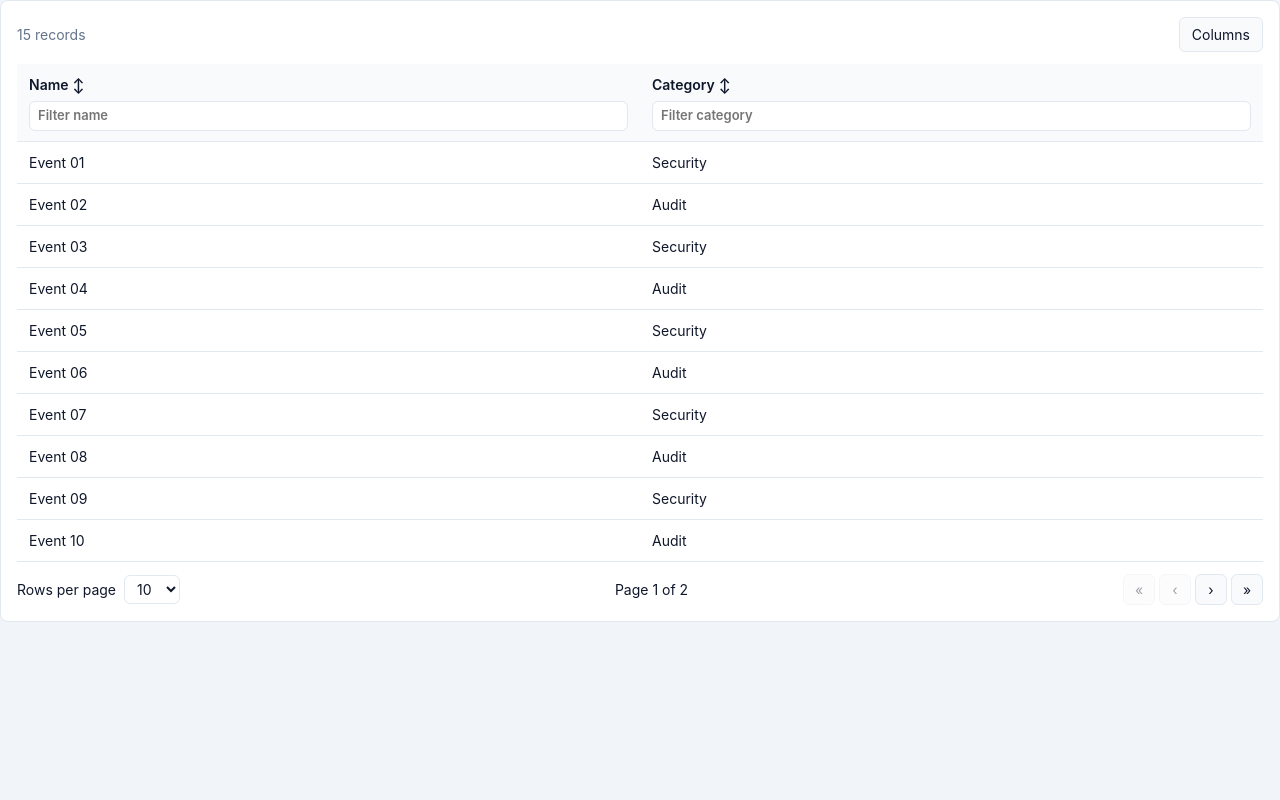
Test: DataGrid › navigates to the next page
The image size is (1280, 800).
Click the button named "Next page".
click(1211, 589)  # box [1195,574,1227,604]
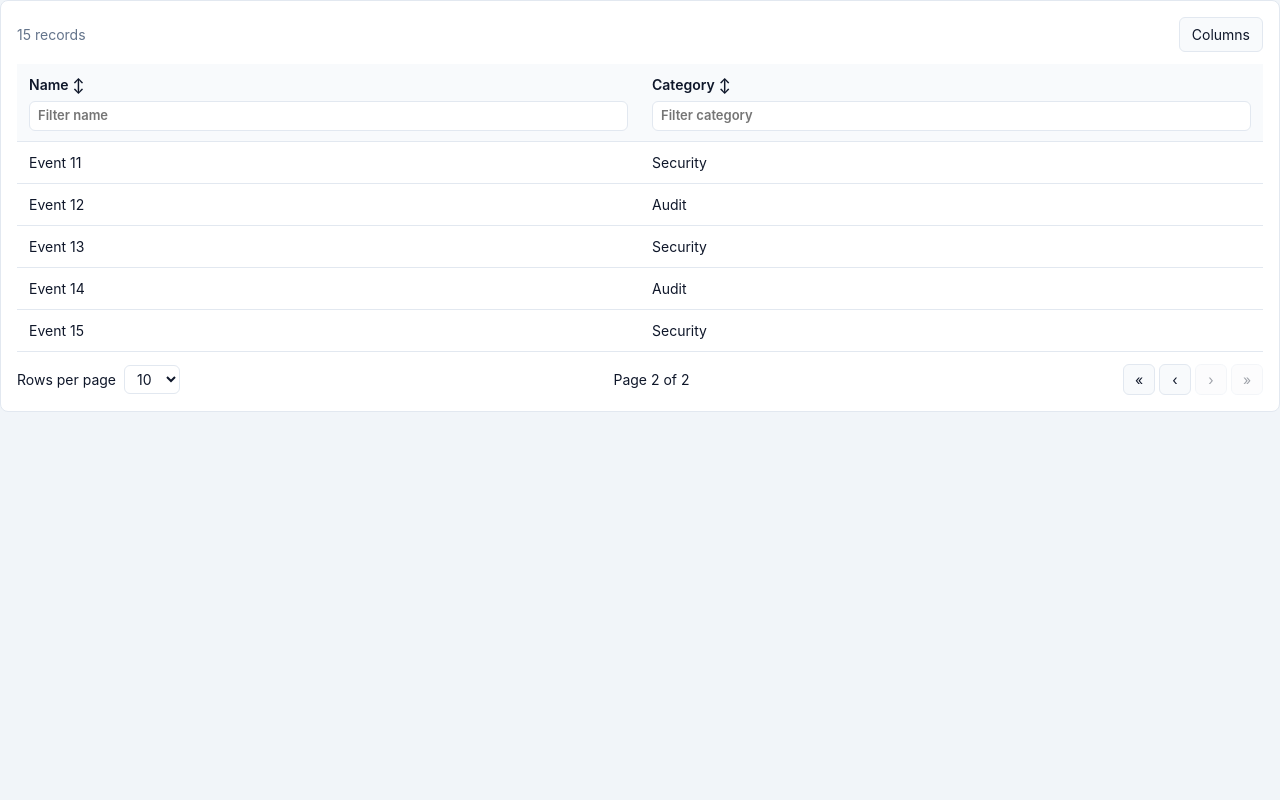
Result: the text "Event 11" is shown at [17,141,640,183]
Result: the text "Page 2 of 2" is shown at [614,368,690,390]
